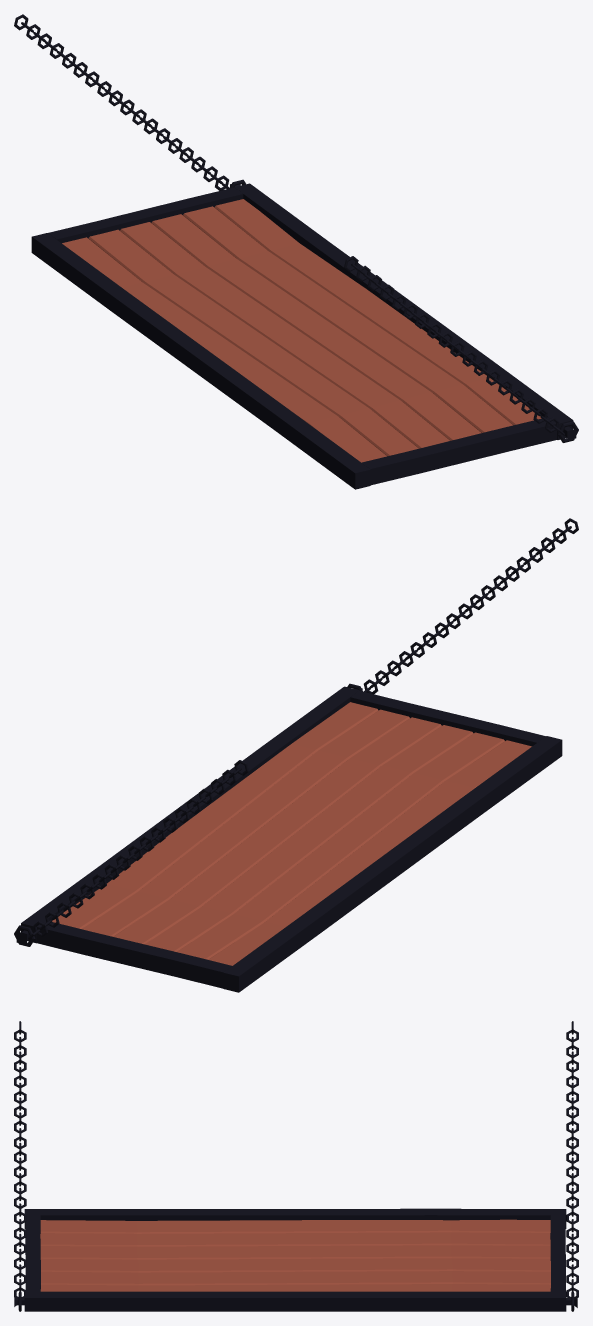
Rendered from prison bed.fbx.
3 views of the same model, one above another, from view 1: azimuth 30°, elevation 25°; view 2: azimuth 150°, elevation 25°; view 3: azimuth 270°, elevation 25° (orthographic). The views are drawn at different scales.
Visible parts, largest first — view 1: prison bed; view 2: prison bed; view 3: prison bed.
Part boxes in pixels (x1,y1,x2,y2): prison bed: (14,14,578,489); prison bed: (14,518,578,992); prison bed: (14,1021,578,1311).
Bounding box in the file's own units: 75.46 × 73.22 × 188.
